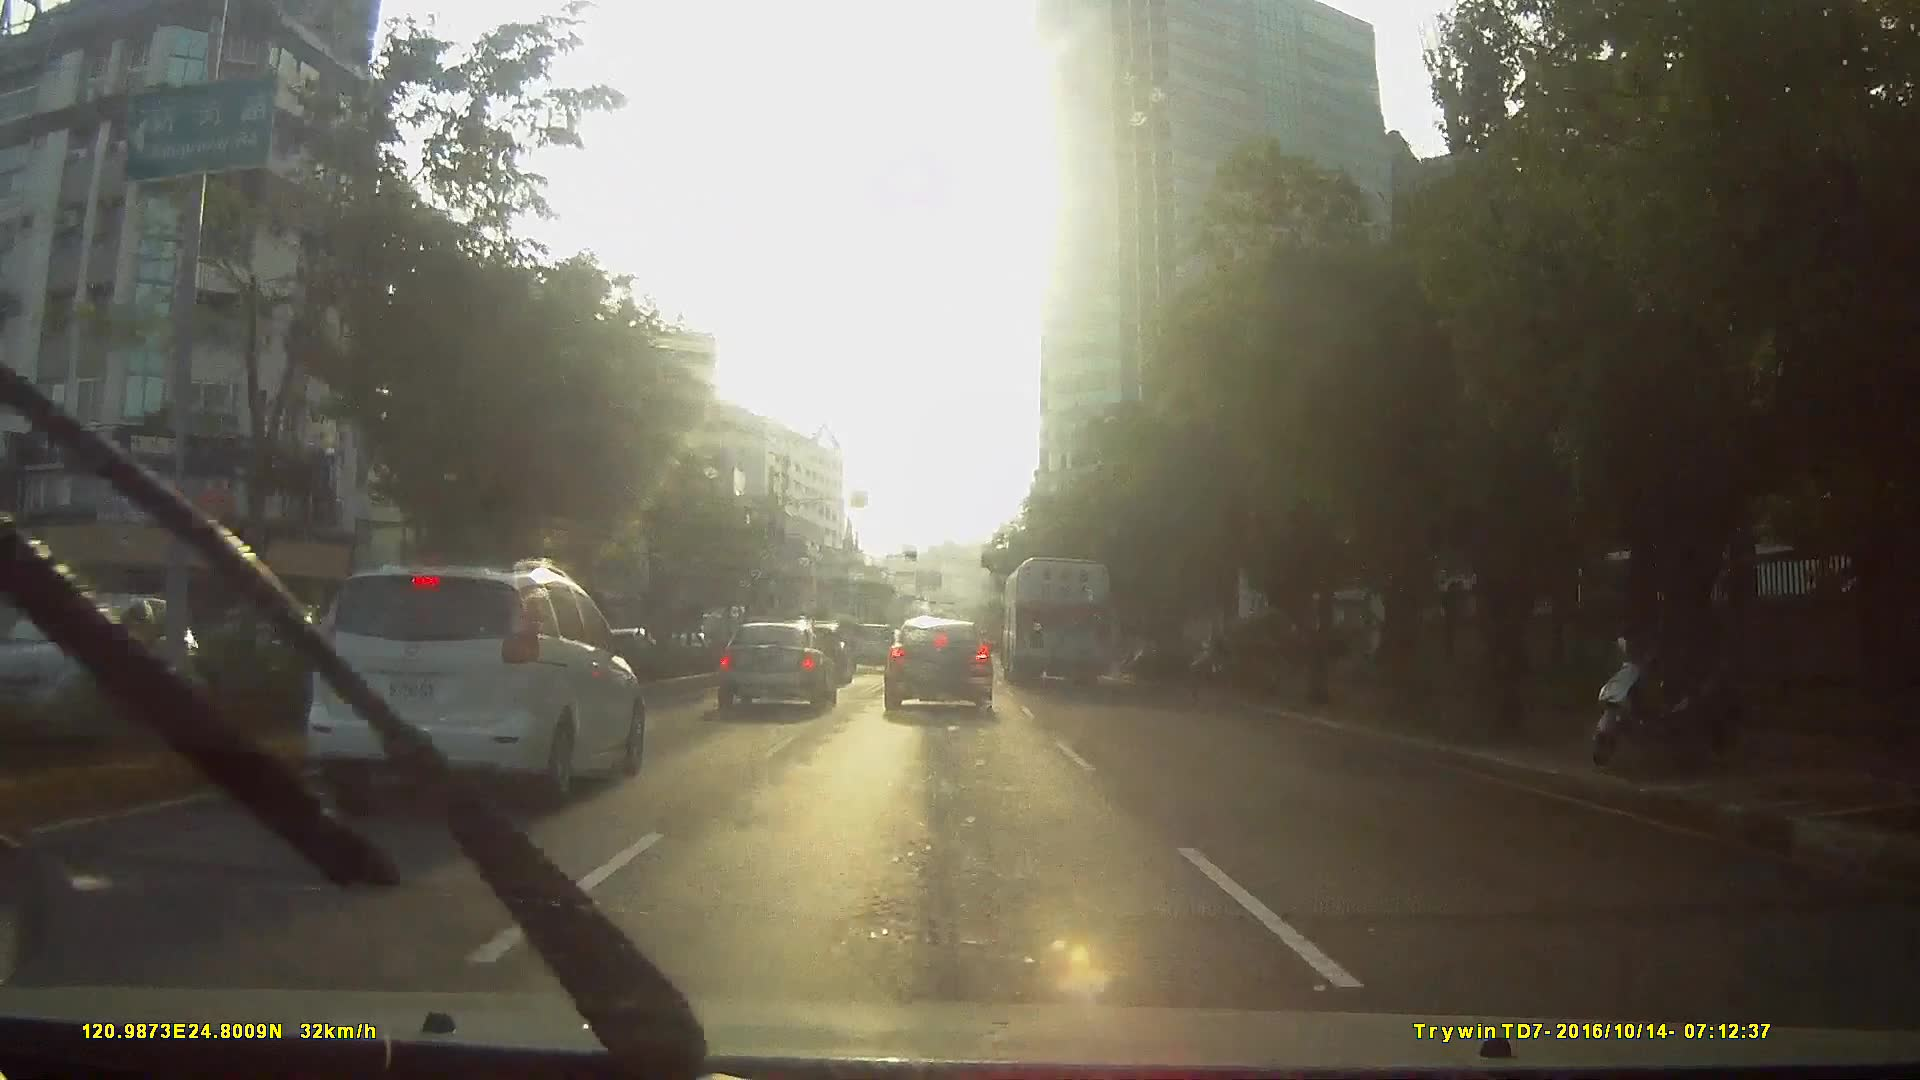vehicle: (251, 556, 684, 868), (295, 556, 644, 814), (1, 593, 227, 748), (1005, 551, 1114, 684), (713, 620, 837, 716), (882, 615, 994, 720), (848, 622, 897, 671)
